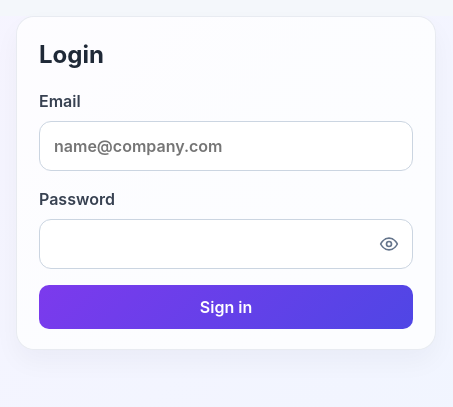
Scenario: Login page › shows "Wrong email or password." for a wrong password
Type "ops@northwind.com" into the field labelled "Email". click: (226, 146)
box: [39, 121, 413, 171]
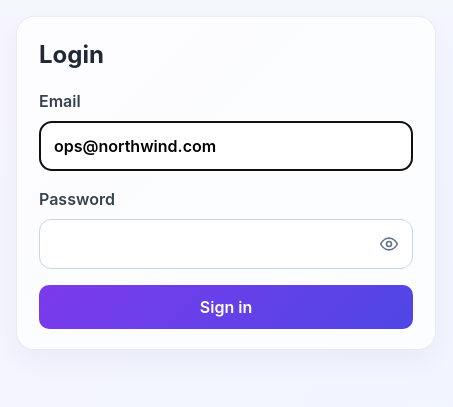
Type "not-the-password" into the password field labelled "Password". click: (226, 244)
box: [39, 219, 413, 269]
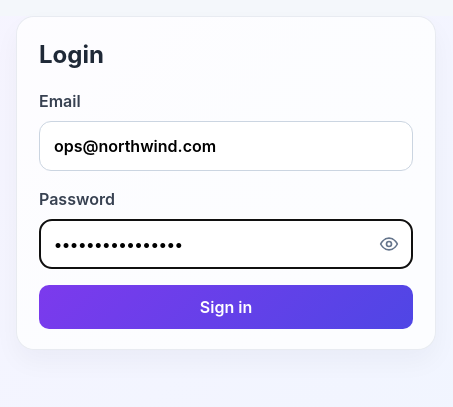
Click the button "Sign in". click: (226, 307)
box: [39, 285, 413, 329]
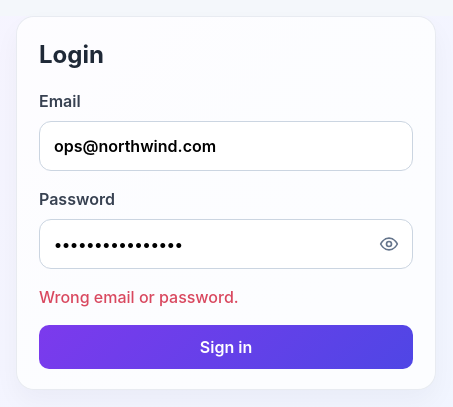
expect the message reads "Wrong email or password.": met, box [39, 287, 239, 307]
